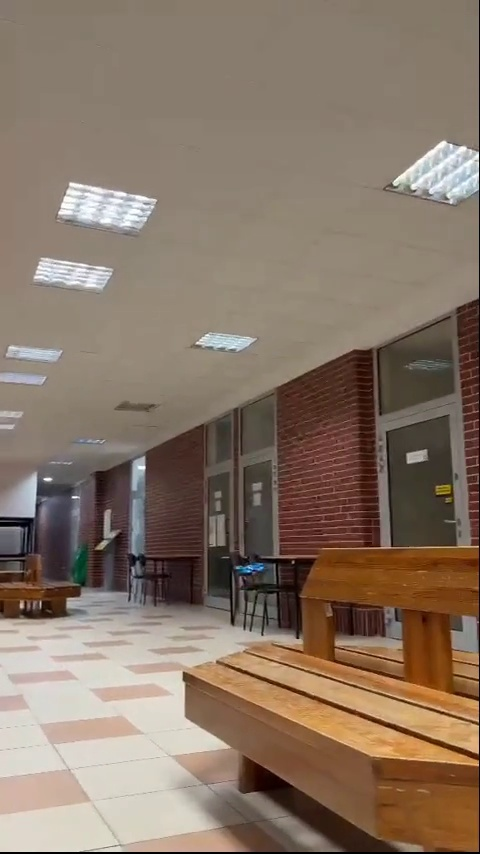drone: (234, 561, 267, 578)
